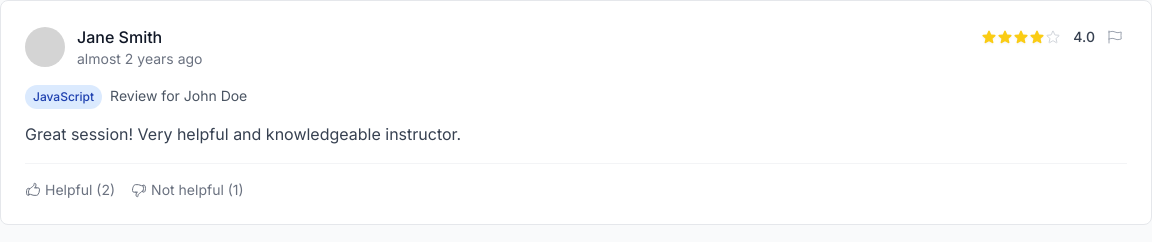
Test case: ReviewCard Component › updates helpfulness counts locally after voting
This screenshot has width=1152, height=242.
Click the button "Helpful (2)".
click(70, 190)  # box [25,180,115,200]
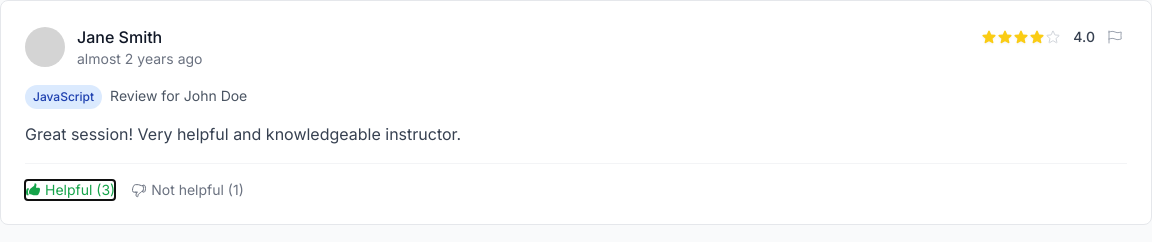
Expected: the text "Helpful (3)" is shown, [45,180,115,200]
